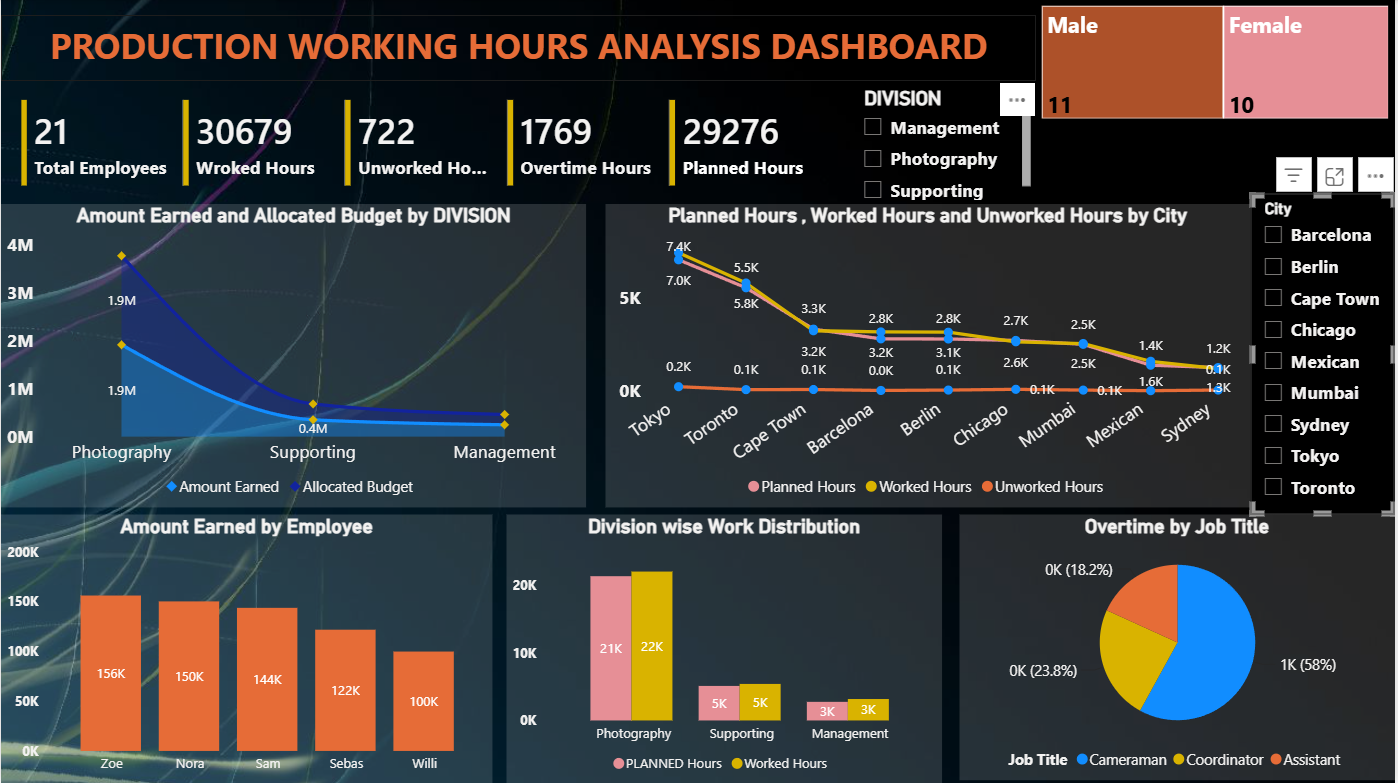

This screenshot's page, from the dashboard's own definition file:
{"tool":"powerbi","page":{"name":"Page 1","canvas":[1280,720],"ordinal":0},"visuals":[{"type":"cardVisual","fields":{"Data":["CountNonNull(Data.Employee Name)","Sum(Data.Wroked Hours )","Sum(Data.Unworked Hours)","Sum(Data.Overtime Hours)","Sum(Data.PLANNED Hours )"]},"box":[1.5,74.2,778.3,113.6],"z":0},{"type":"slicer","fields":{"Values":["Data.DIVISION"]},"box":[779.8,74.2,171.1,113.6],"z":1000},{"type":"treemap","fields":{"Group":["Data.Gender"],"Values":["CountNonNull(Data.Employee Name)"]},"box":[950.9,0,328.6,113.6],"z":2000},{"type":"clusteredColumnChart","title":"Division wise Work Distribution","fields":{"Category":["Data.DIVISION"],"Y":["Sum(Data.PLANNED Hours )","Sum(Data.Wroked Hours )"]},"box":[464.9,472.4,399.8,246.8],"z":3000},{"type":"pieChart","title":"Overtime  by Job Title","fields":{"Category":["Data.Job Title"],"Y":["Sum(Data.Overtime Hours)"]},"box":[879.8,472.4,399.8,243.8],"z":4000},{"type":"lineChart","fields":{"Y":["Sum(Data.PLANNED Hours )","Sum(Data.Wroked Hours )","Sum(Data.Unworked Hours)"],"Category":["Data.City"]},"box":[555.7,187.8,592.1,278.6],"z":5000},{"type":"slicer","fields":{"Values":["Data.City"]},"box":[1147.8,177.2,131.7,295.3],"z":6000},{"type":"clusteredColumnChart","fields":{"Category":["Data.Employee Name"],"Y":["Sum(Data.Amount Earned )"]},"box":[0,472.4,451.2,246.8],"z":7000},{"type":"stackedAreaChart","fields":{"Category":["Data.DIVISION"],"Y":["Sum(Data.Amount Earned )","Sum(Data.Allocated Budget )"]},"box":[0,187.8,537.5,278.6],"z":8000},{"type":"textbox","box":[0,13.6,950.9,60.6],"z":9000}]}

Visuals, with their boxes in screenshot pixels (x1, y1, x2, y2), scaled from the page's 1280x720 canvas onto the 1398x783 screenshot:
cardVisual - CountNonNull(Data.Employee Name) x Sum(Data.Wroked Hours ): crop(2, 81, 852, 204)
slicer - Data.DIVISION: crop(852, 81, 1039, 204)
treemap - Data.Gender x CountNonNull(Data.Employee Name): crop(1039, 0, 1397, 124)
"Division wise Work Distribution" clusteredColumnChart: crop(508, 514, 944, 782)
"Overtime  by Job Title" pieChart: crop(961, 514, 1397, 779)
lineChart - Sum(Data.PLANNED Hours ) x Sum(Data.Wroked Hours ): crop(607, 204, 1254, 507)
slicer - Data.City: crop(1254, 193, 1397, 514)
clusteredColumnChart - Data.Employee Name x Sum(Data.Amount Earned ): crop(0, 514, 493, 782)
stackedAreaChart - Data.DIVISION x Sum(Data.Amount Earned ): crop(0, 204, 587, 507)
textbox: crop(0, 15, 1039, 81)
